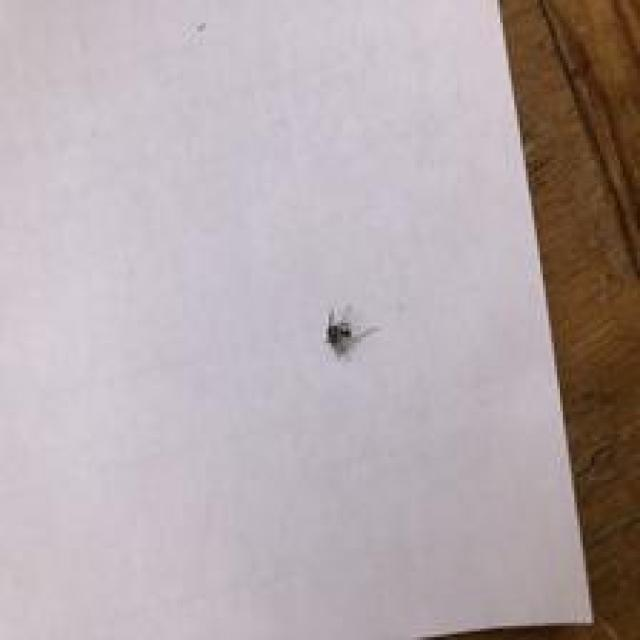Aedes albopictus: (323, 304, 380, 359)
